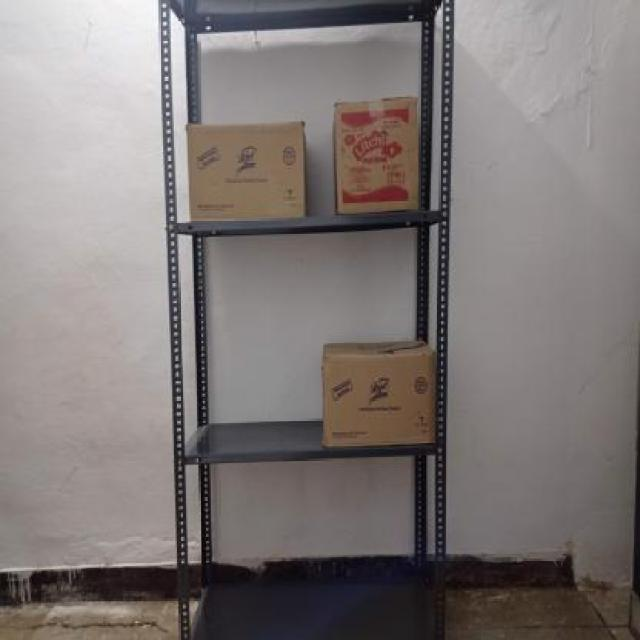box: (186, 122, 308, 218), (322, 349, 435, 443), (335, 94, 423, 211)
